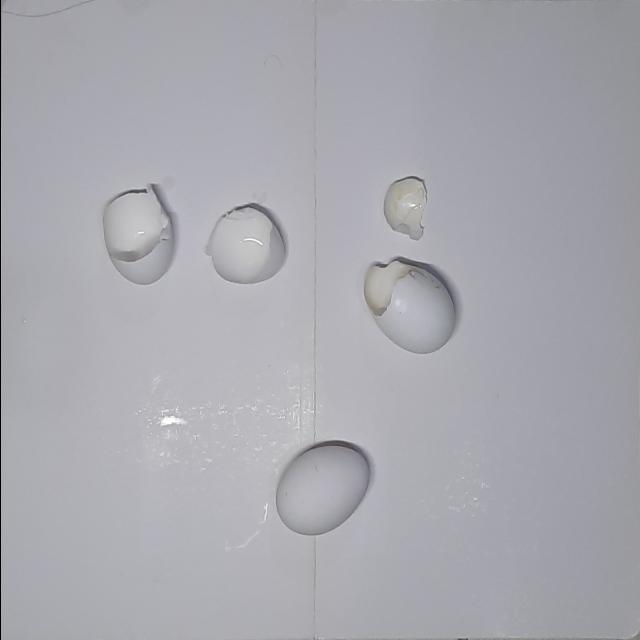egg shell: (357, 248, 475, 365), (90, 174, 184, 302), (269, 434, 377, 542), (195, 187, 299, 299), (380, 174, 438, 240)
